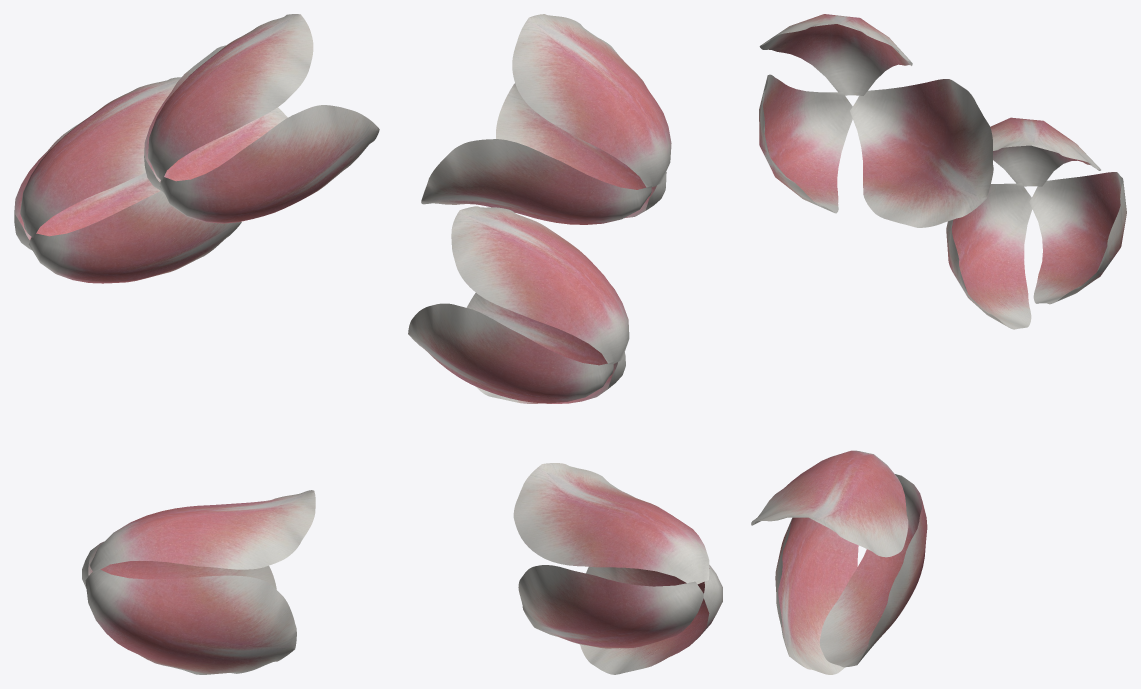
Rendered from TulipFlower002.obj.
The picture shows the model from 3 angles, left to right: view 1: azimuth 30°, elevation 25°; view 2: azimuth 150°, elevation 25°; view 3: azimuth 270°, elevation 25°; orthographic projection. The views are drawn at different scales.
Parts seen in each view (by area): view 1: TulipFlower002; view 2: TulipFlower002; view 3: TulipFlower002.
Boxes of the visible parts, x1,y1,x2,y2 form: TulipFlower002: [14, 14, 379, 674]; TulipFlower002: [408, 14, 722, 674]; TulipFlower002: [751, 14, 1126, 674].
Bounding box in the file's own units: 0.0776 × 0.1893 × 0.0946.
1 material, 1 textured.
